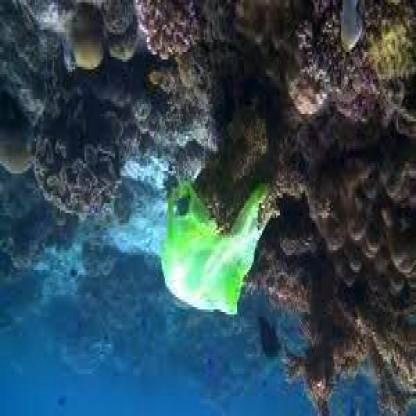pbag: (160, 181, 268, 317)
